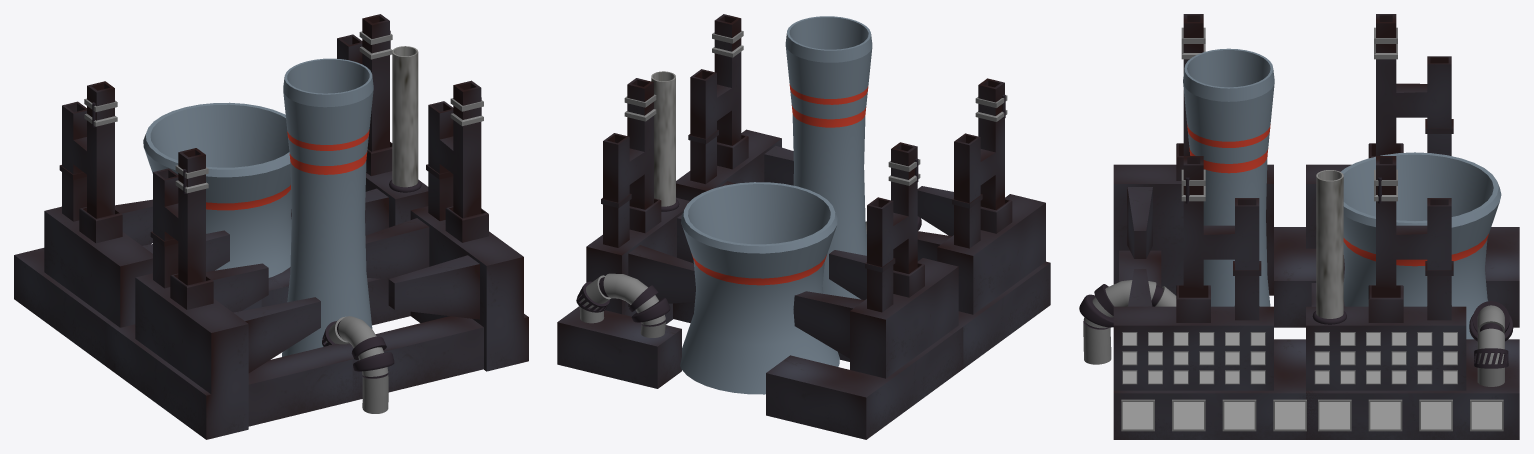
Rendered from Factory_exp.fbx.
3 views of the same model, side by side, from view 1: azimuth 30°, elevation 25°; view 2: azimuth 150°, elevation 25°; view 3: azimuth 270°, elevation 25° (orthographic). The views are drawn at different scales.
Parts seen in each view (by area): view 1: Factory, Cylinder.014, Cylinder.013, Cylinder.012, Pipe.001; view 2: Factory, Cylinder.013, Cylinder.014, Pipe, Cylinder.012; view 3: Factory, Cylinder.013, Cylinder.014, Fac_Window.001, Fac_Window.003, Fac_Window, Fac_Window.002, Cylinder.012, Pipe.001, Pipe.
Part boxes in pixels (left/top/right/bottom): Factory: left=14, top=14, right=528, bottom=439; Cylinder.014: left=282, top=58, right=373, bottom=356; Cylinder.013: left=143, top=102, right=291, bottom=277; Cylinder.012: left=392, top=46, right=418, bottom=187; Pipe.001: left=322, top=316, right=394, bottom=413; Factory: left=557, top=14, right=1050, bottom=439; Cylinder.013: left=680, top=182, right=839, bottom=394; Cylinder.014: left=785, top=16, right=872, bottom=299; Pipe: left=576, top=273, right=670, bottom=337; Cylinder.012: left=651, top=71, right=675, bottom=206; Factory: left=1113, top=14, right=1519, bottom=439; Cylinder.013: left=1341, top=152, right=1501, bottom=339; Cylinder.014: left=1183, top=48, right=1274, bottom=306; Fac_Window.001: left=1318, top=399, right=1503, bottom=431; Fac_Window.003: left=1121, top=399, right=1306, bottom=431; Fac_Window: left=1314, top=332, right=1457, bottom=384; Fac_Window.002: left=1122, top=332, right=1265, bottom=384; Cylinder.012: left=1316, top=170, right=1343, bottom=318; Pipe.001: left=1079, top=280, right=1176, bottom=364; Pipe: left=1469, top=301, right=1513, bottom=386.
Size of the model in its own units: 2880 by 2401 by 3207.
7 materials, 2 textured.
